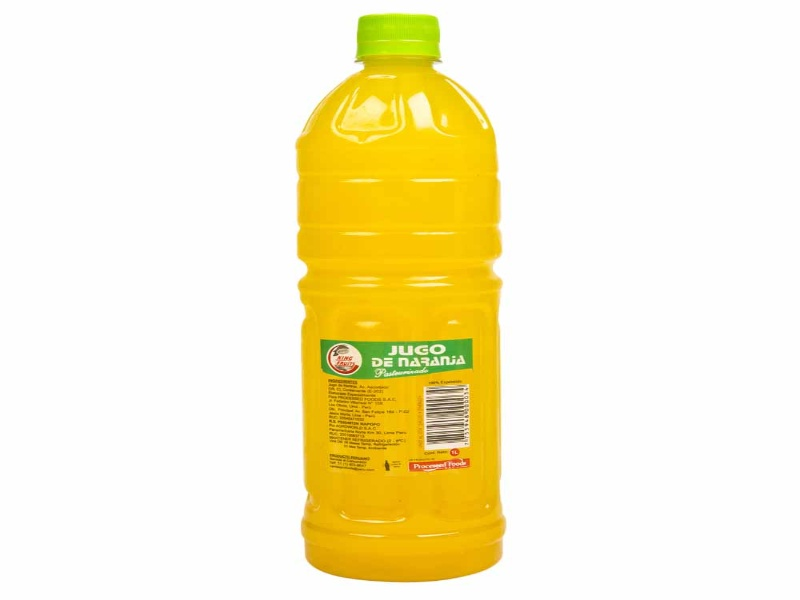Jugo de naranja: (296, 14, 505, 580)
